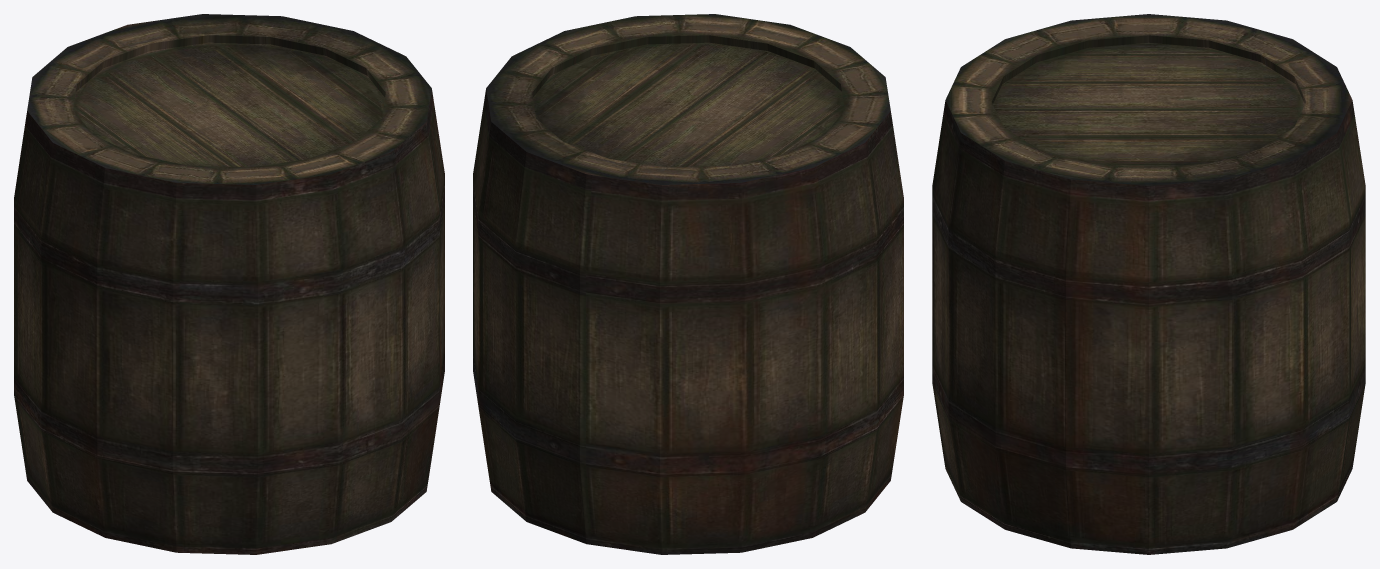
Rendered from Barril_v2.fbx.
3 views of the same model, side by side, from view 1: azimuth 30°, elevation 25°; view 2: azimuth 150°, elevation 25°; view 3: azimuth 270°, elevation 25° (orthographic).
Visible parts, largest first — view 1: Barril_v2; view 2: Barril_v2; view 3: Barril_v2.
Boxes of the visible parts, box(x1,y1,x2,y2) form: Barril_v2: box(14, 14, 444, 554); Barril_v2: box(473, 14, 903, 554); Barril_v2: box(932, 14, 1365, 554).
Bounding box in the file's own units: 227 × 213 × 227.
1 material, 1 textured.
